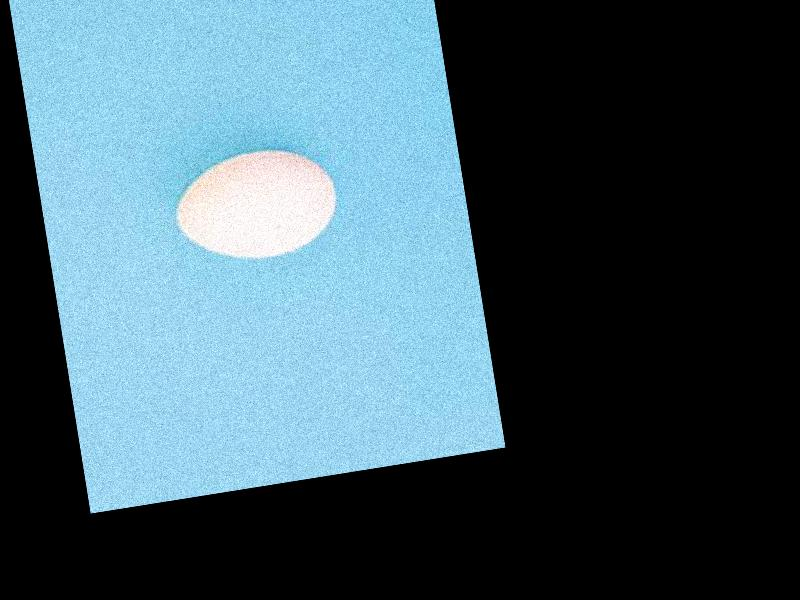Eggs: (165, 139, 343, 269)
